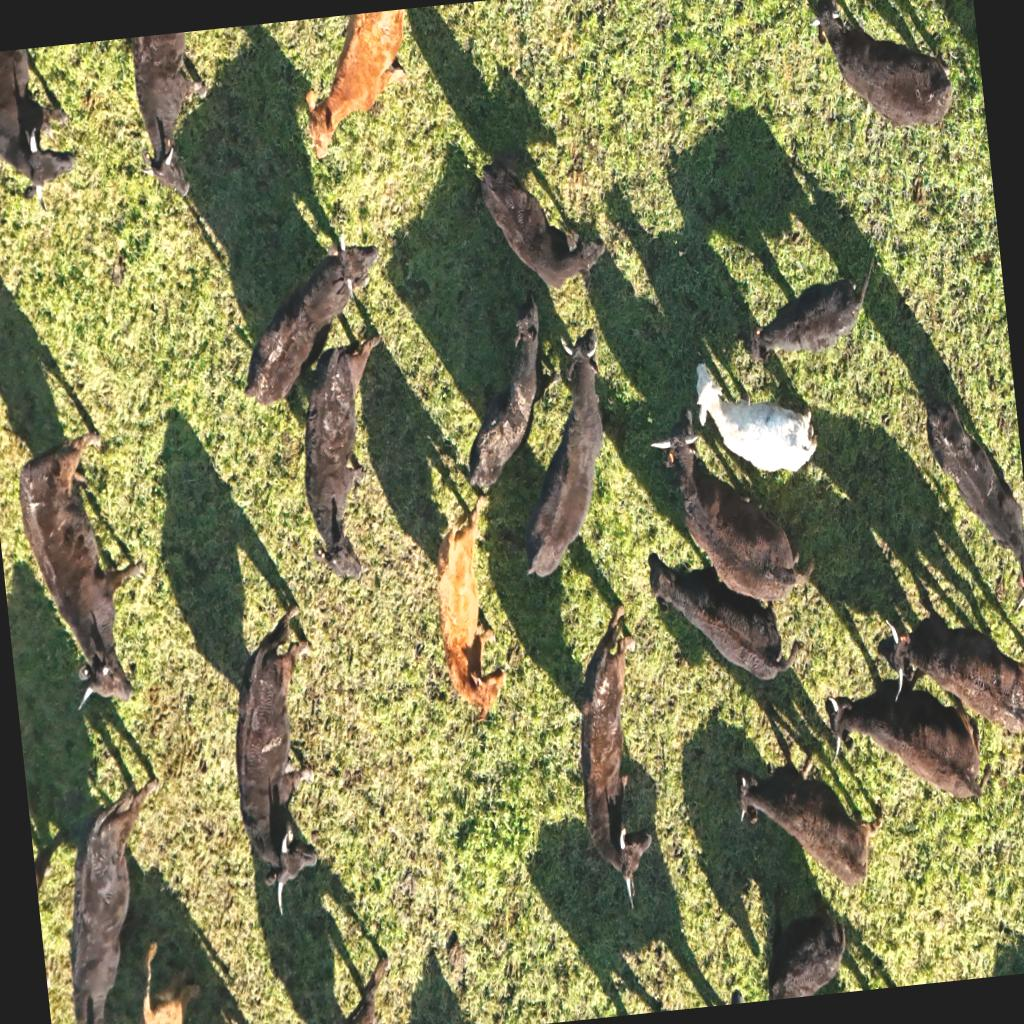cow: (29, 770, 189, 1024), (13, 432, 160, 702), (218, 611, 336, 915), (494, 326, 620, 586), (564, 610, 665, 910), (818, 654, 992, 817), (289, 325, 396, 582), (672, 418, 810, 614), (228, 239, 378, 414), (735, 740, 885, 901), (870, 589, 1024, 745), (920, 390, 1024, 610), (802, 0, 957, 142), (453, 294, 556, 500), (478, 150, 610, 308), (427, 499, 513, 720), (296, 10, 418, 162), (672, 552, 799, 690), (688, 351, 818, 484), (126, 30, 220, 206), (742, 258, 884, 372), (0, 45, 85, 222), (756, 883, 850, 999), (119, 930, 215, 1024), (318, 950, 395, 1024)
